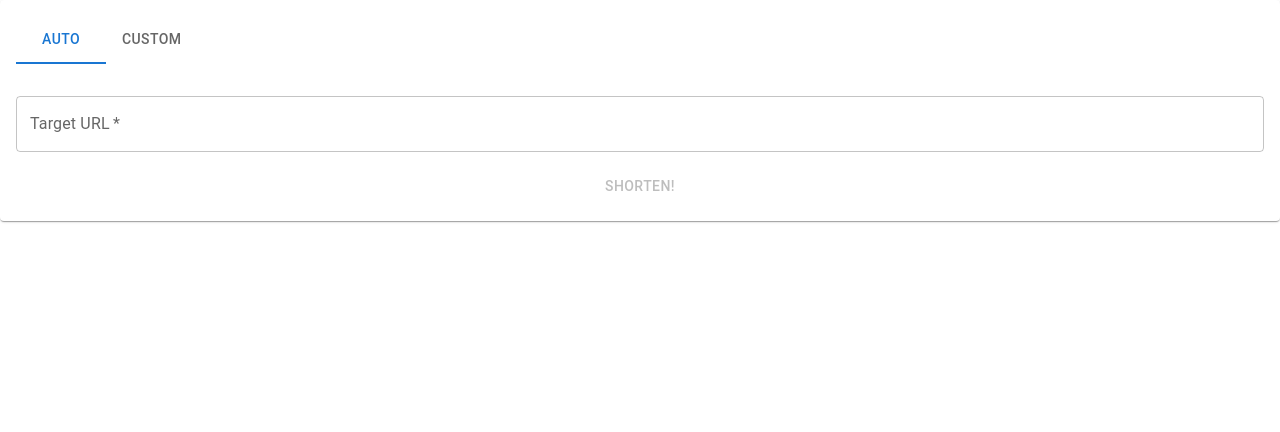
Test: button is disabled when the uid input is not correct
The image size is (1280, 432).
Click the tab with test id "tabs-selection-1" at (152, 40), box x1=106 y1=16 x2=197 y2=64
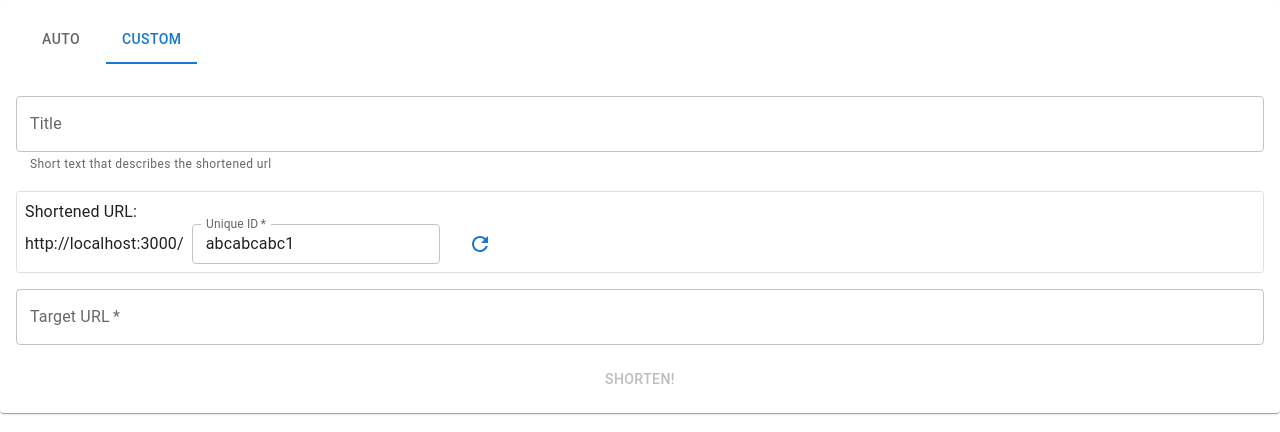
Expected: the button with test id "shorten-button-input" is disabled, x1=16 y1=361 x2=1264 y2=397
Type "abcabcabc11" into the field with test id "unique-id-input" at (316, 244), box x1=192 y1=224 x2=440 y2=264
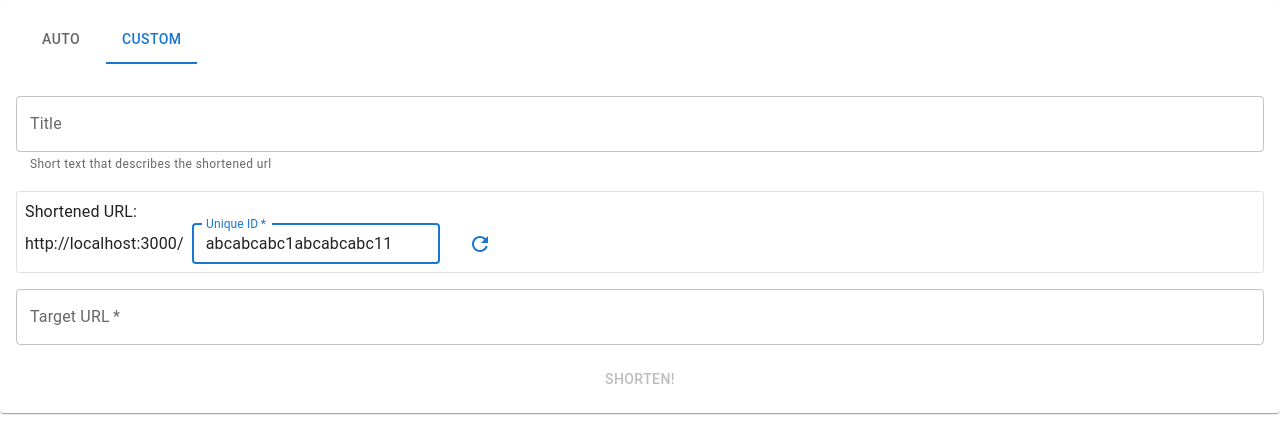
Expected: the button with test id "shorten-button-input" is disabled, x1=16 y1=361 x2=1264 y2=397
Replace the text in the field with test id "unique-id-input" with "##" at (316, 244), box x1=192 y1=224 x2=440 y2=264
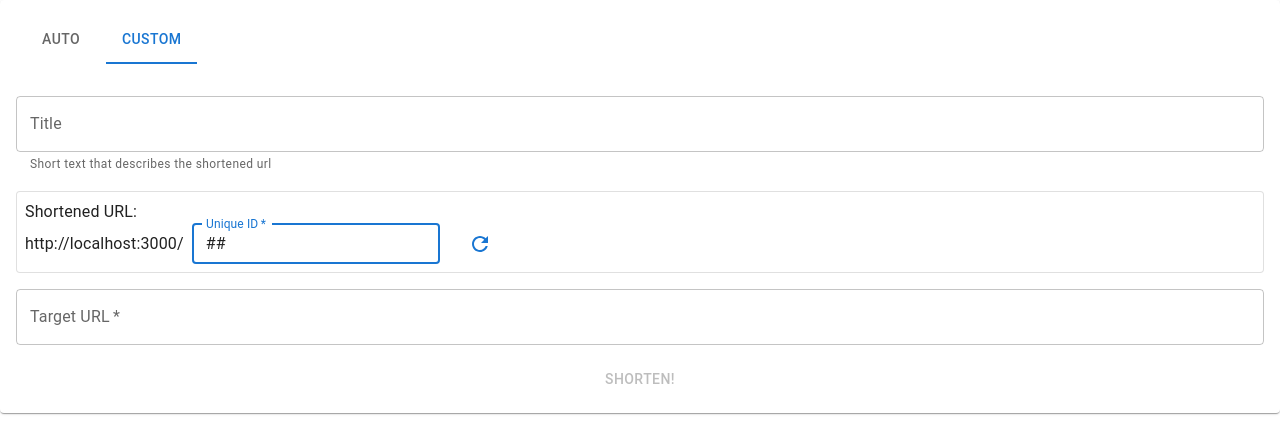
Expected: the button with test id "shorten-button-input" is disabled, x1=16 y1=361 x2=1264 y2=397
Replace the text in the field with test id "unique-id-input" with "o" at (316, 244), box x1=192 y1=224 x2=440 y2=264
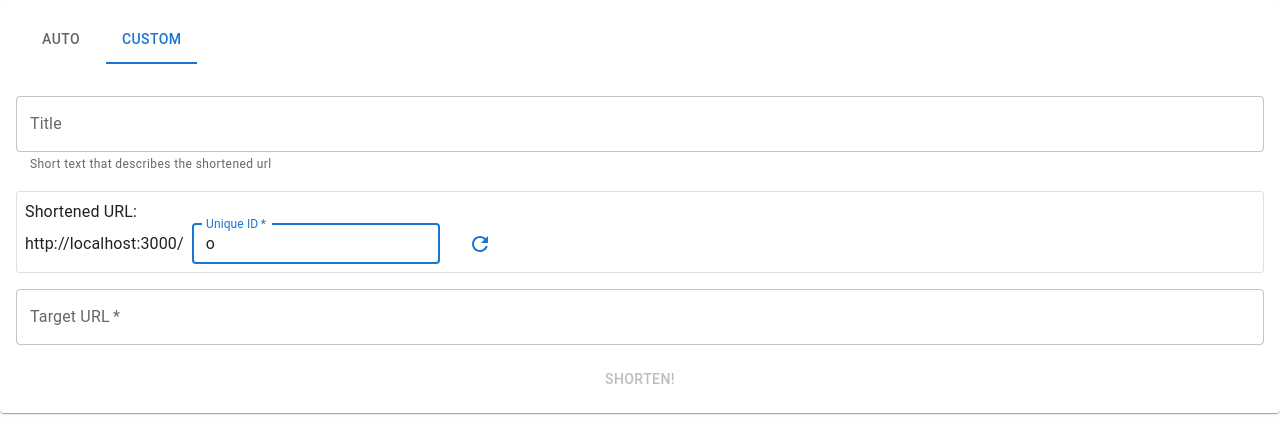
Type "www.example.com" into the field with test id "url-input" at (640, 317), box x1=16 y1=289 x2=1264 y2=345
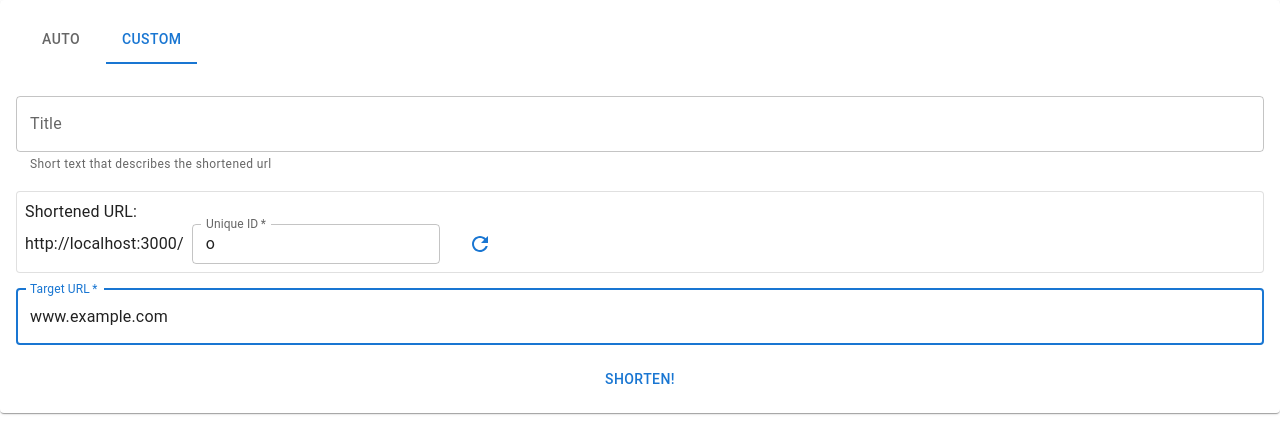
Expected: the button with test id "shorten-button-input" is enabled, x1=16 y1=361 x2=1264 y2=397
